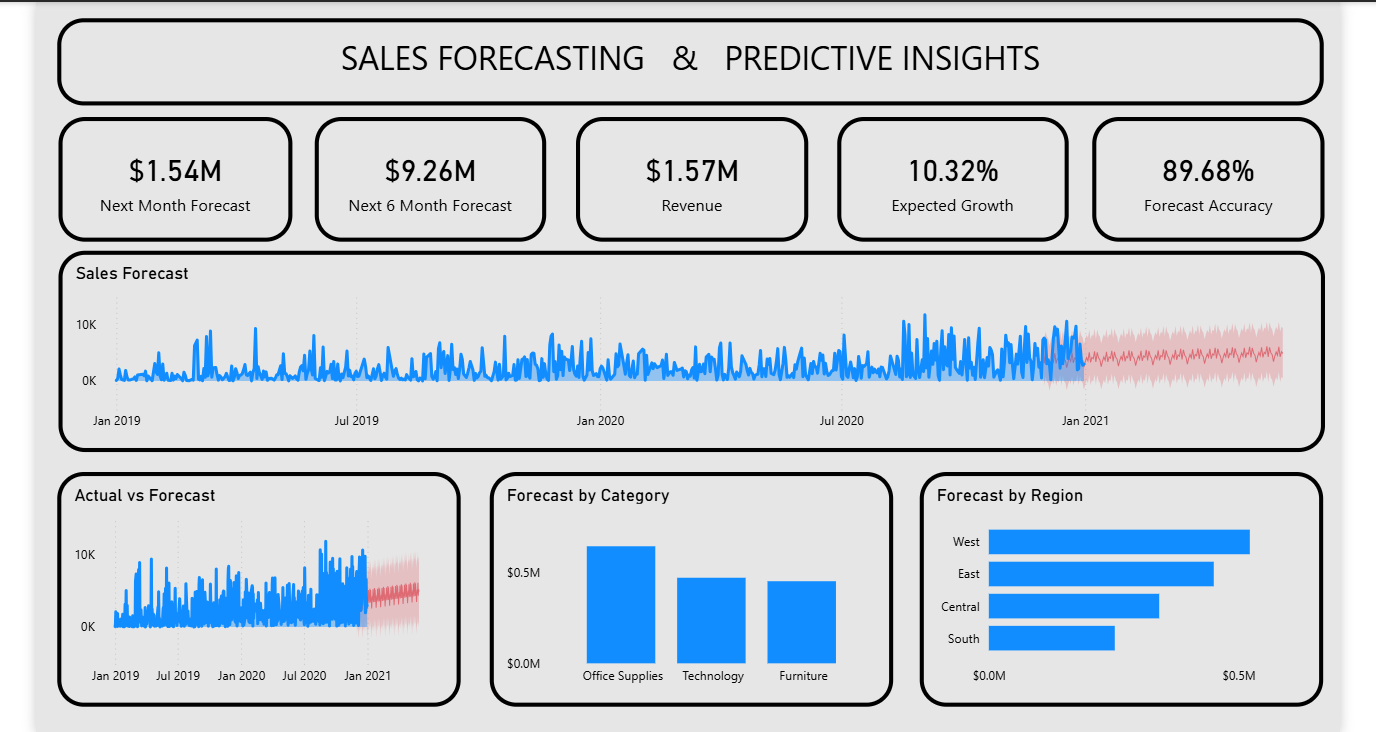

The dashboard page shown, as its layout file describes it:
{"tool":"powerbi","page":{"name":"Forecast","canvas":[1280,720],"ordinal":1},"visuals":[{"type":"lineChart","title":"Sales Forecast","fields":{"Y":["Sum(Sales.Sales)"],"Category":["Sales.Order Date"]},"box":[22.1,244.2,1243,197.5],"z":0},{"type":"card","fields":{"Values":["Sales.Next Month Forecast"]},"box":[22.1,112.9,229.4,122.7],"z":1000},{"type":"card","fields":{"Values":["Sales.Growth %"]},"box":[786.5,112.9,227,122.7],"z":2000},{"type":"card","fields":{"Values":["Sales.Next 6 Month Forecast"]},"box":[273.6,112.9,227,122.7],"z":3000},{"type":"card","fields":{"Values":["Sales.Forecast Accuracy"]},"box":[1036.8,112.9,228.2,122.7],"z":4000},{"type":"lineChart","title":"Actual vs Forecast","fields":{"Y":["Sum(Sales.Sales)"],"Category":["Sales.Order Date"]},"box":[21.2,461.2,396.2,230],"z":5000},{"type":"columnChart","title":"Forecast by Category","fields":{"Category":["Sales.Category"],"Y":["Sales.Total Sales"]},"box":[445,461.2,396.2,230],"z":6000},{"type":"clusteredBarChart","title":"Forecast by Region","fields":{"Category":["Sales.Region"],"Y":["Sales.Total Sales"]},"box":[867.5,461.2,396.2,230],"z":7000},{"type":"textbox","box":[20.9,16,1243,85.9],"z":8000},{"type":"card","fields":{"Values":["Sales.Revenue"]},"box":[530.1,112.9,228.2,122.7],"z":9000},{"type":"image","box":[43,109.3,44.2,58.1],"z":10000},{"type":"image","box":[273.3,117.4,76.7,50],"z":11000},{"type":"image","box":[786,112.8,79.1,50],"z":12000},{"type":"image","box":[1037.2,119.8,75.6,43],"z":13000},{"type":"image","box":[539.4,117.4,60.3,45.7],"z":14000}]}

Visuals, with their boxes in screenshot pixels (x1, y1, x2, y2):
"Sales Forecast" lineChart: {"x1": 72, "y1": 248, "x2": 1317, "y2": 446}
card - Sales.Next Month Forecast: {"x1": 72, "y1": 117, "x2": 302, "y2": 239}
card - Sales.Growth %: {"x1": 838, "y1": 117, "x2": 1065, "y2": 239}
card - Sales.Next 6 Month Forecast: {"x1": 324, "y1": 117, "x2": 551, "y2": 239}
card - Sales.Forecast Accuracy: {"x1": 1088, "y1": 117, "x2": 1317, "y2": 239}
"Actual vs Forecast" lineChart: {"x1": 71, "y1": 465, "x2": 468, "y2": 696}
"Forecast by Category" columnChart: {"x1": 496, "y1": 465, "x2": 892, "y2": 696}
"Forecast by Region" clusteredBarChart: {"x1": 919, "y1": 465, "x2": 1315, "y2": 696}
textbox: {"x1": 71, "y1": 20, "x2": 1316, "y2": 106}
card - Sales.Revenue: {"x1": 581, "y1": 117, "x2": 809, "y2": 239}
image: {"x1": 93, "y1": 113, "x2": 137, "y2": 171}
image: {"x1": 324, "y1": 121, "x2": 401, "y2": 171}
image: {"x1": 837, "y1": 117, "x2": 916, "y2": 167}
image: {"x1": 1089, "y1": 124, "x2": 1164, "y2": 167}
image: {"x1": 590, "y1": 121, "x2": 651, "y2": 167}
